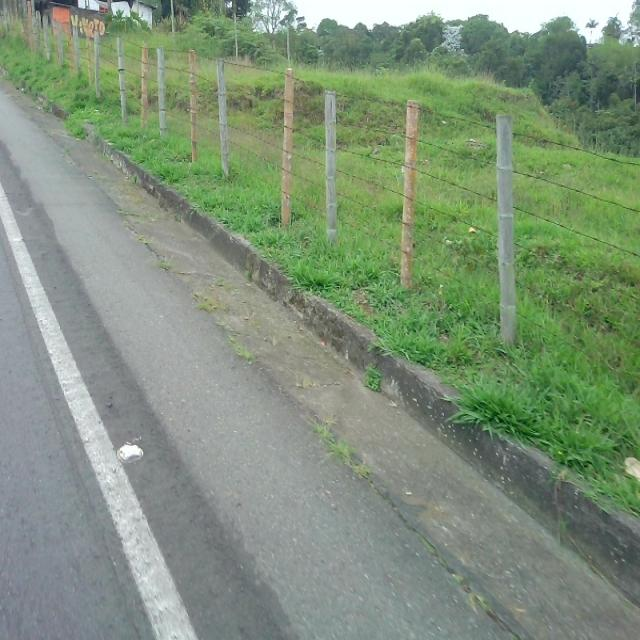DITCH: (1, 72, 639, 638)
